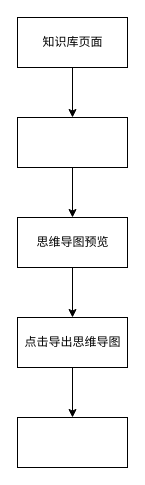
This 145x485 diagram has some shape labels left out. Here are the shapes that lost their labels. From the top down, the centre of each, then its label:
At pixel 72 142: "点击生成思维导图".
At pixel 72 442: "下载思维导图".
